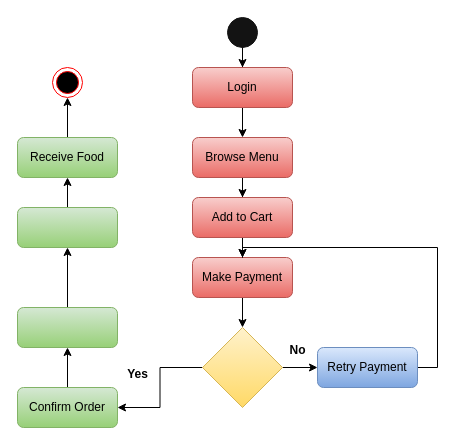
This 463x445 diagram has some shape labels left out. The shapes that lost their labels are listed below. From the top down, each one's centre as x and y in pixels, then its label:
At point (67, 227): "Track Delivery".
At point (67, 327): "Assign Rider".
At point (242, 367): "Payment Successful?".
